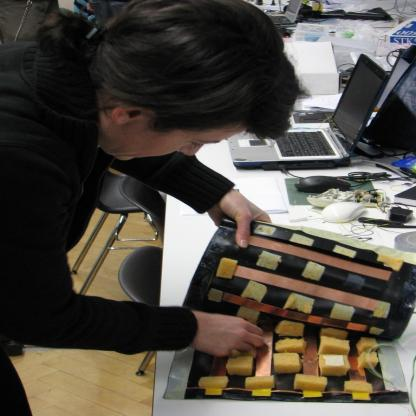board: (228, 53, 388, 171), (266, 0, 304, 25)
